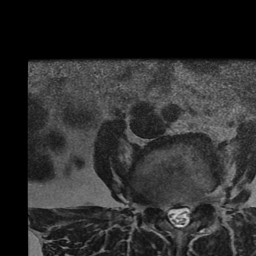CCS_normal: (174, 195, 183, 235)
LFS_severe_stenosis: (193, 190, 203, 215)
LLS_normal: (183, 196, 193, 228)
RFS_severe_stenosis: (154, 192, 165, 220)
RLS_normal: (166, 199, 174, 229)
